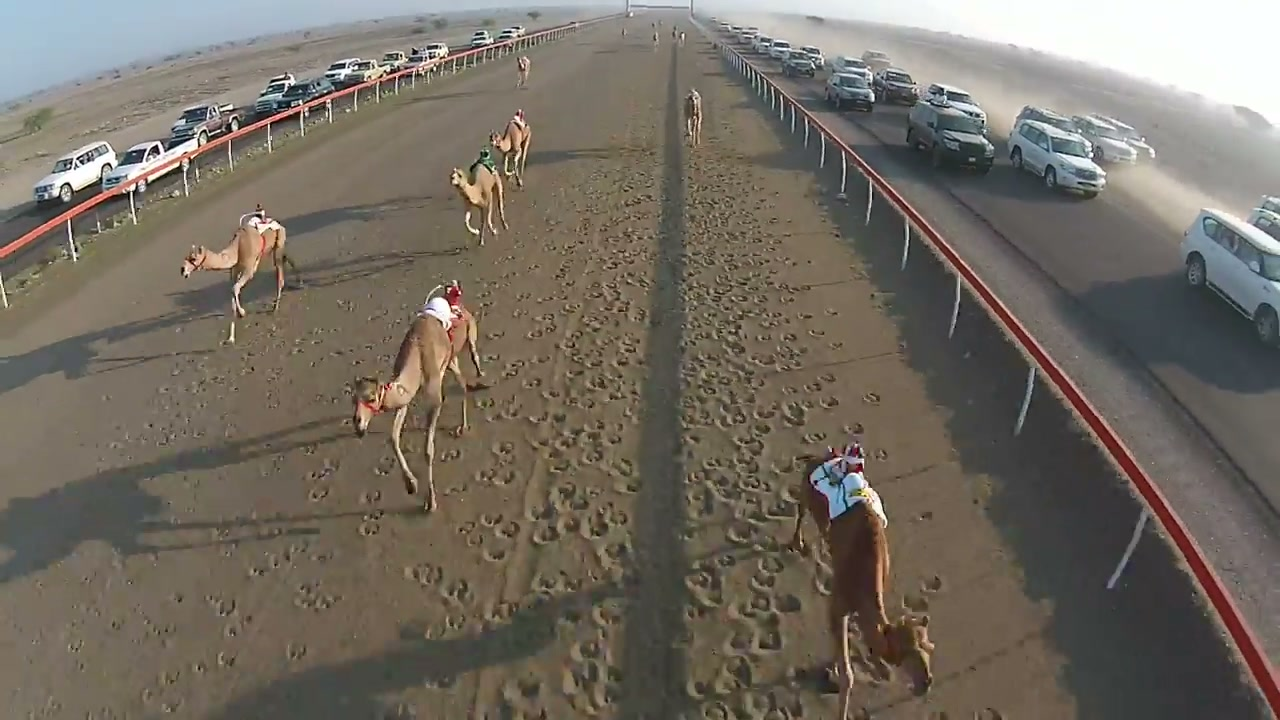animal_foot_print: (6, 53, 1004, 719), (679, 88, 982, 717), (679, 154, 887, 717), (471, 195, 660, 716), (293, 581, 339, 611)
